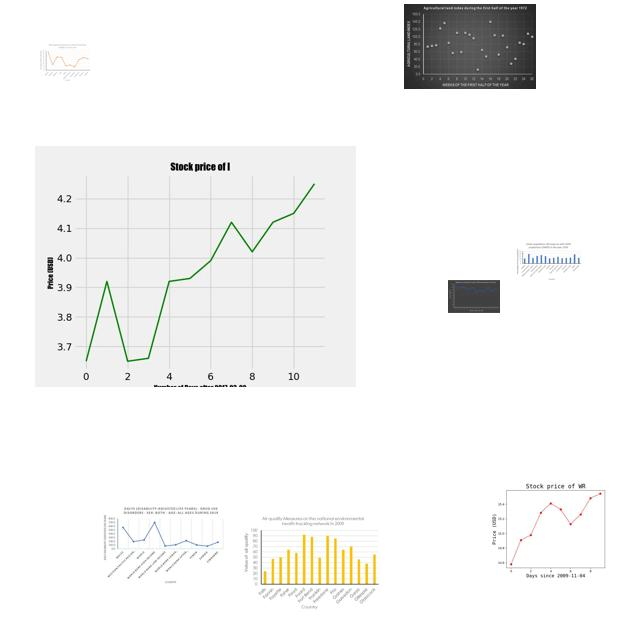Graph: (35, 146, 356, 387), (241, 514, 381, 611), (487, 478, 621, 579), (404, 4, 536, 89), (101, 505, 226, 586), (515, 242, 582, 281), (39, 43, 91, 82), (448, 280, 500, 313)
